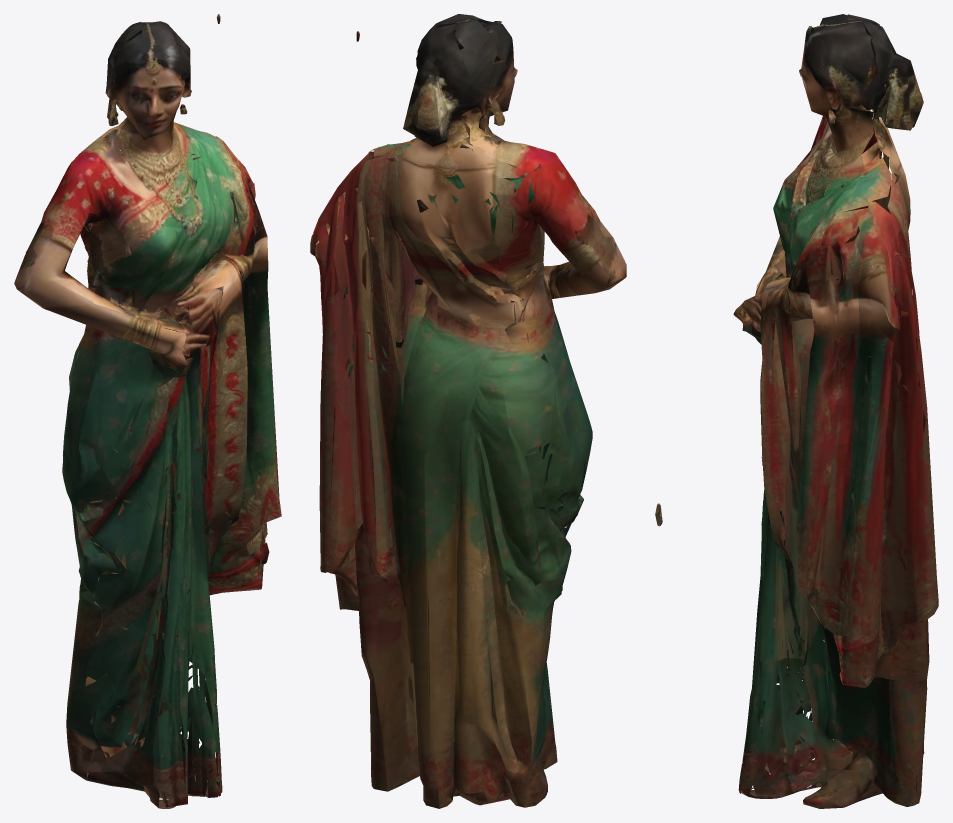
The model's file is didi2.glb.
3 renders of one model, left to right at view 1: azimuth 30°, elevation 25°; view 2: azimuth 150°, elevation 25°; view 3: azimuth 270°, elevation 25°, orthographic. The views are drawn at different scales.
Visible parts, largest first — view 1: Mesh1_Mesh1.124; view 2: Mesh1_Mesh1.124; view 3: Mesh1_Mesh1.124.
Part boxes in pixels (bbox=[...]): Mesh1_Mesh1.124: bbox=[14, 14, 281, 808]; Mesh1_Mesh1.124: bbox=[310, 14, 626, 808]; Mesh1_Mesh1.124: bbox=[655, 14, 938, 808].
Size of the model in its own units: 0.5883 by 1.55 by 0.5146.
Materials: 1 (1 with a texture image).
